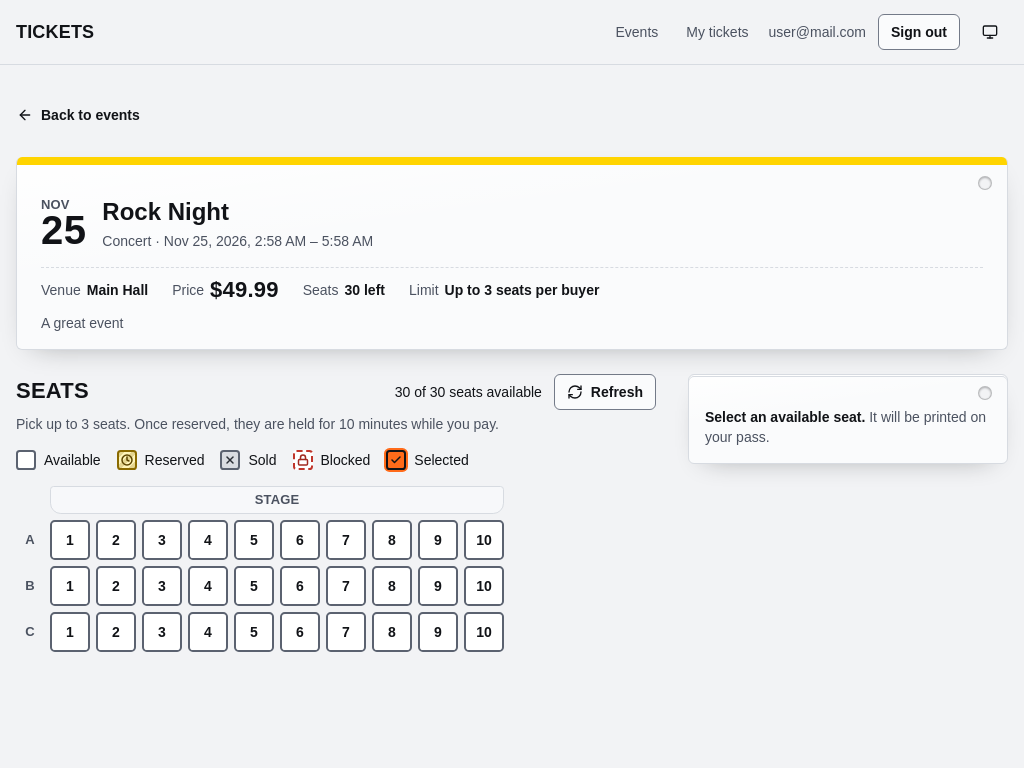
reserving seats › explains the event limit with the number of the event when the server refuses
What coordinates should you click on to do the following:
click the button named "Seat C7, Available"
I would click on:
 (346, 632)
Its box is [326, 612, 366, 652].
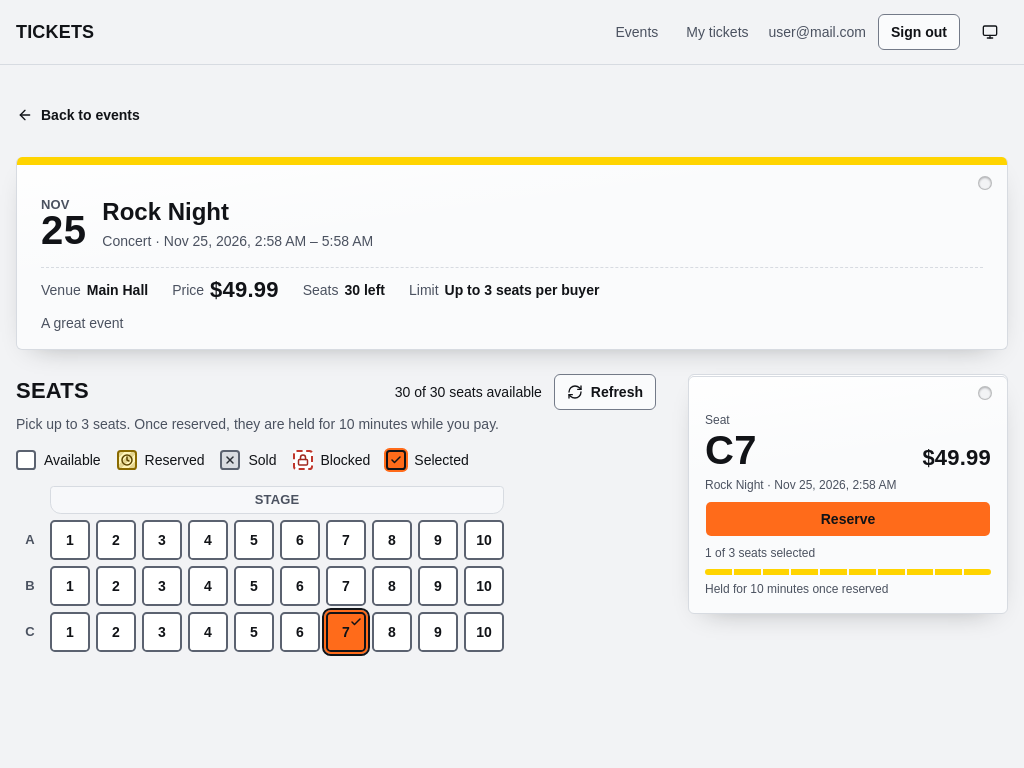
What coordinates should you click on to do the following:
click the 3rd button "8"
I would click on:
 (392, 632)
Its box is [372, 612, 412, 652].
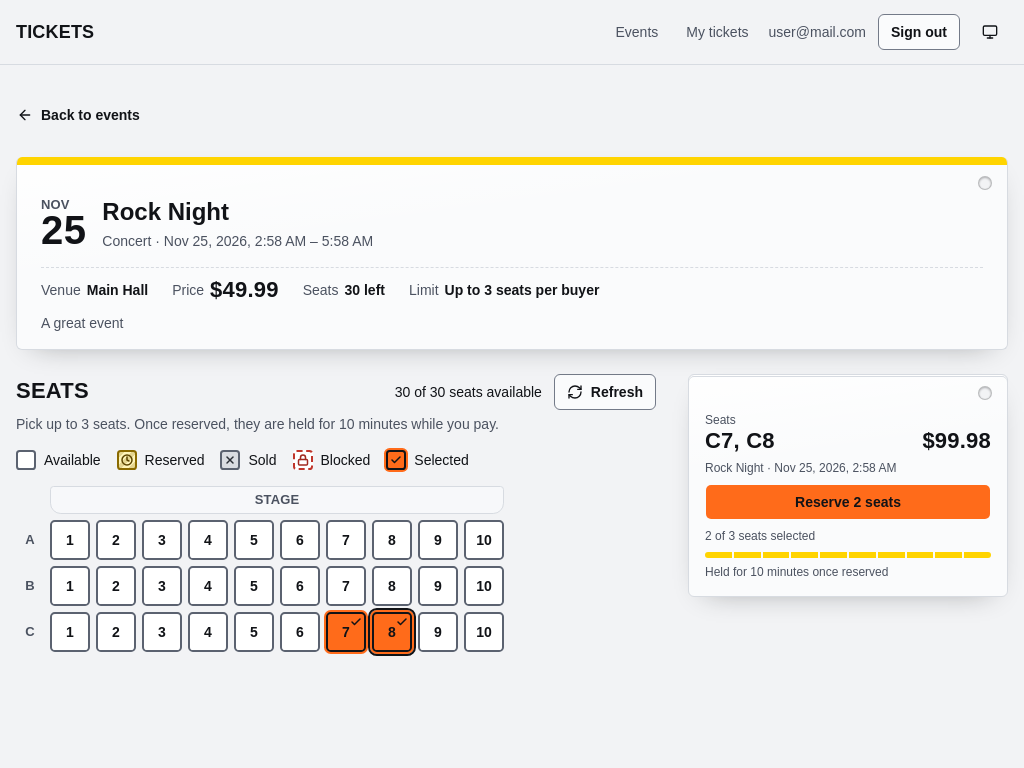
What coordinates should you click on to do the following:
click the button "Reserve 2 seats"
I would click on:
 (848, 502)
Its box is [705, 484, 991, 520].
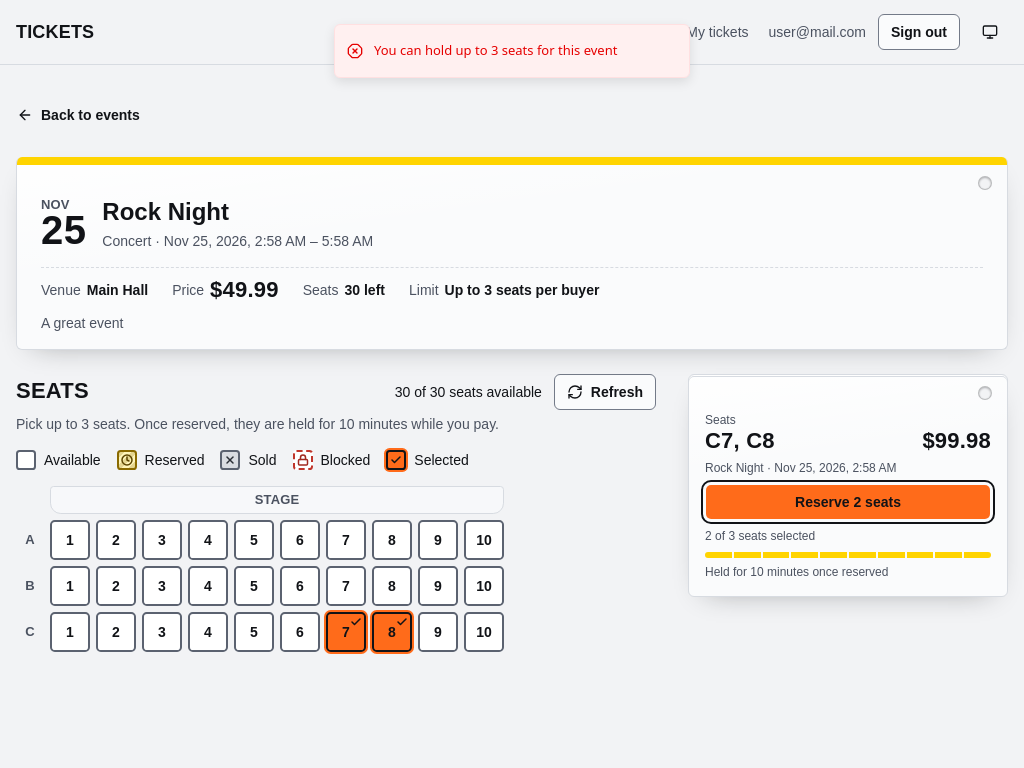
Expected: the text "You can hold up to 3 seats for this event" is shown, [374, 41, 617, 60]
